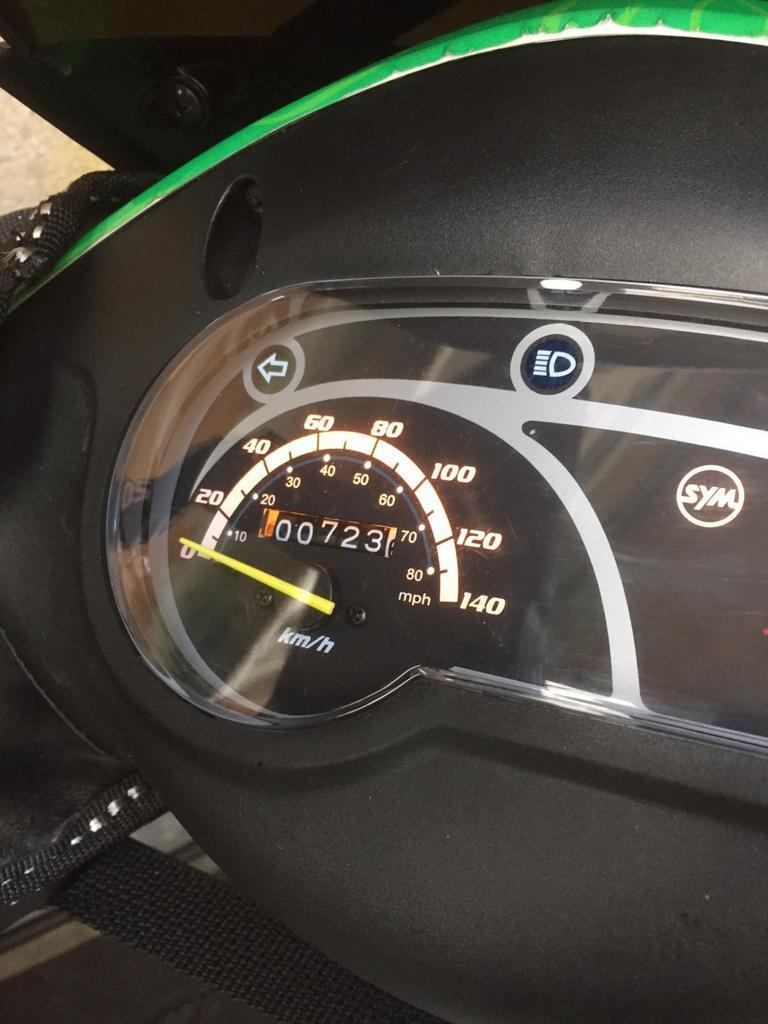0: (273, 517, 292, 542), (295, 520, 314, 545)
2: (340, 525, 360, 549)
3: (363, 527, 384, 553)
6: (387, 537, 396, 558)
7: (319, 518, 339, 544)
odometer: (251, 505, 399, 560)
